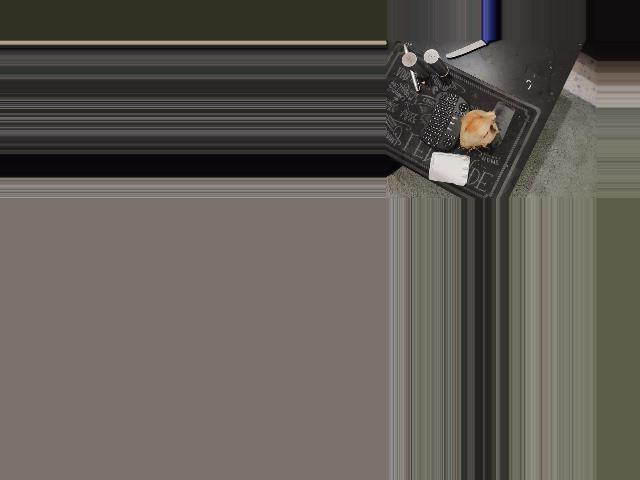onion: (455, 108, 497, 150)
